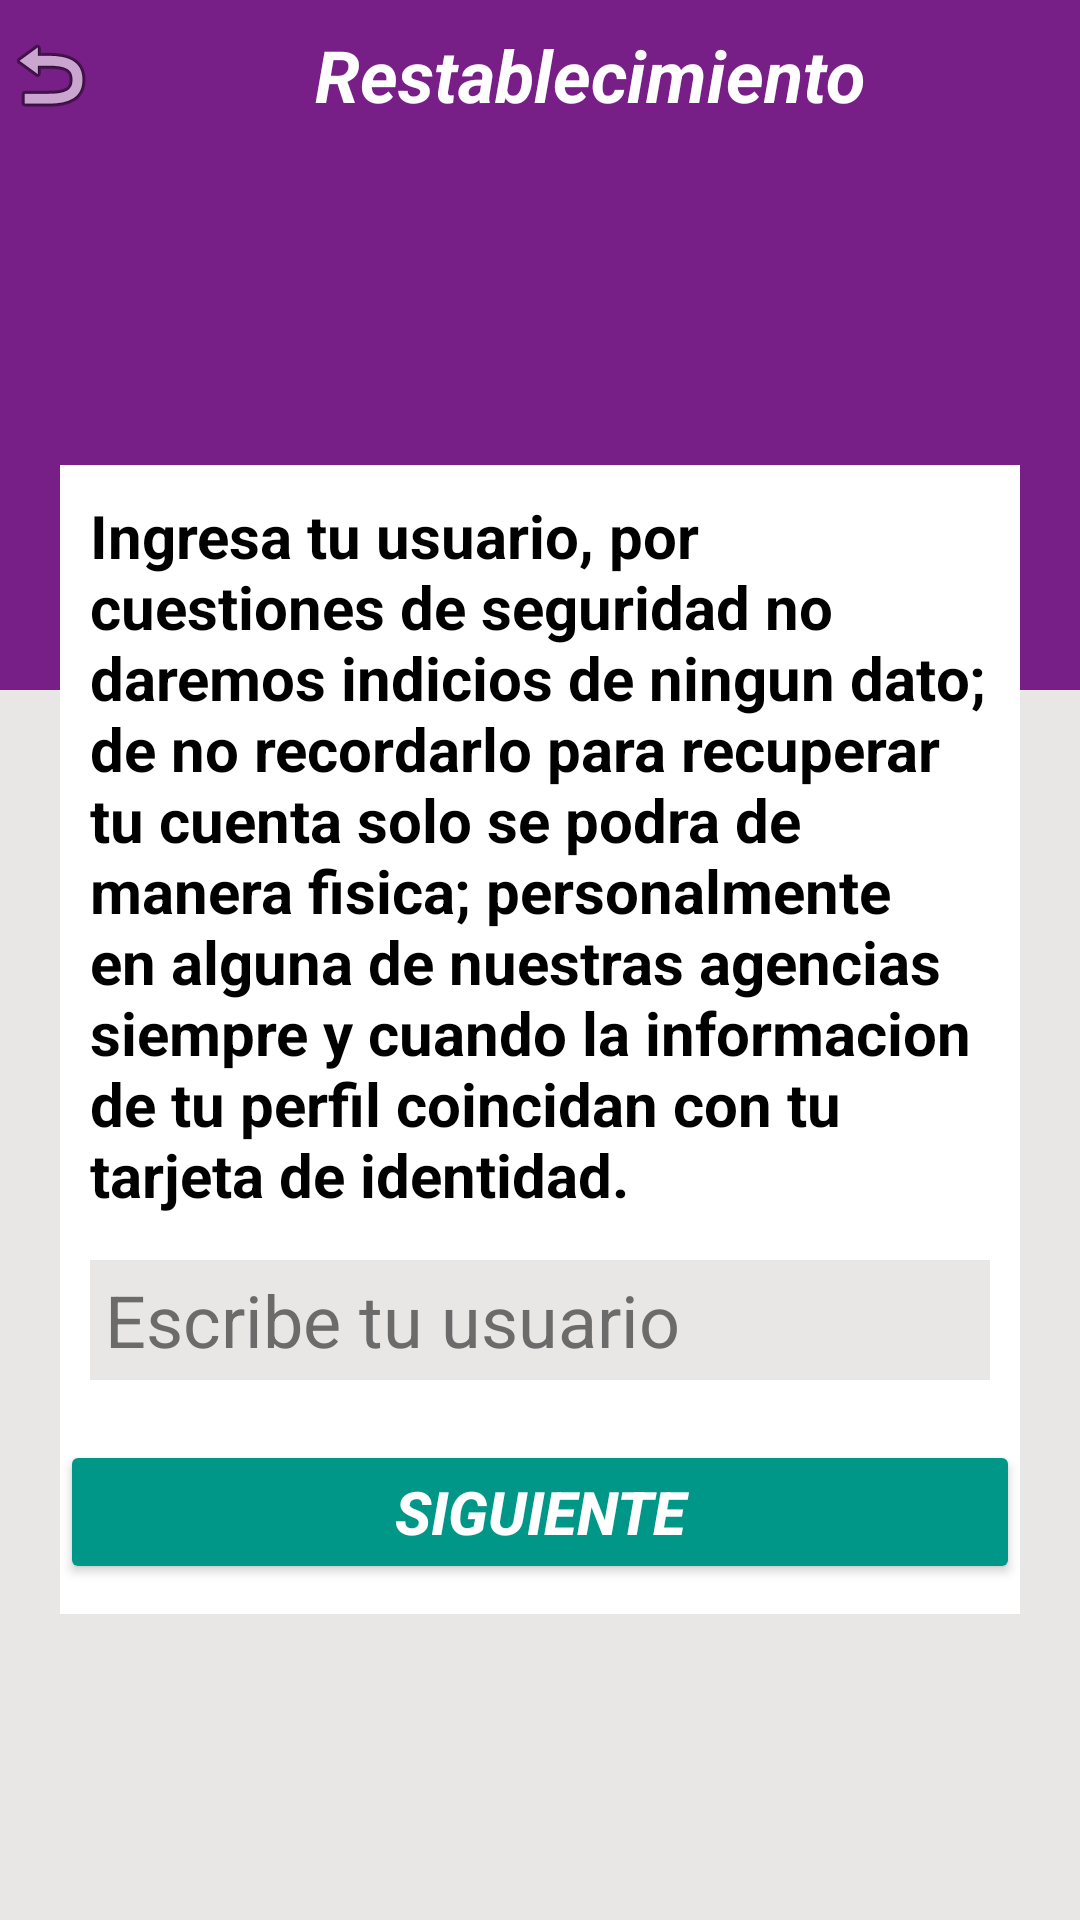

Icon bounding boxes for this 1080 × 1920 phone screenshot, format [x1, y1, x2, y2]:
revert: [17, 45, 86, 107]
